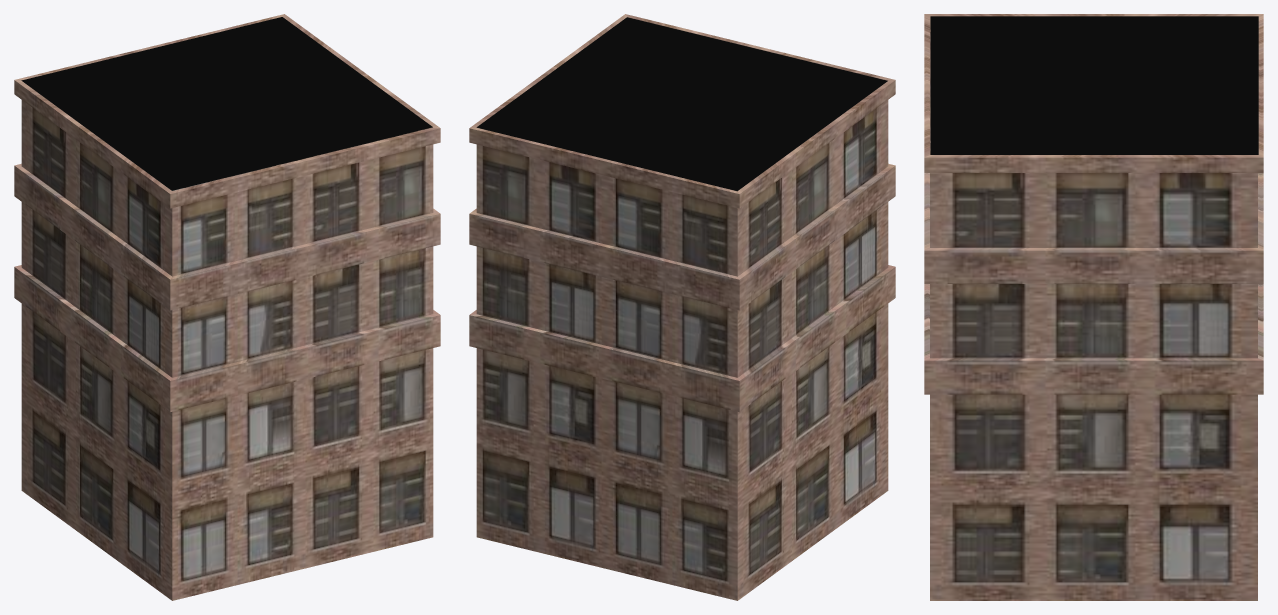
File: building2.fbx
3 views of the same model, side by side, from view 1: azimuth 30°, elevation 25°; view 2: azimuth 150°, elevation 25°; view 3: azimuth 270°, elevation 25° (orthographic). The views are drawn at different scales.
Visible parts, largest first — view 1: Box016, Object009; view 2: Box016, Object009; view 3: Box016, Object009.
Part boxes in pixels (left/top/right/bottom): Box016: left=14, top=14, right=440, bottom=600; Object009: left=21, top=17, right=432, bottom=190; Box016: left=469, top=14, right=895, bottom=600; Object009: left=476, top=17, right=887, bottom=191; Box016: left=924, top=14, right=1263, bottom=600; Object009: left=930, top=16, right=1258, bottom=154.
Size of the model in its own units: 1.03 by 1.49 by 1.03.
2 materials, 1 textured.
